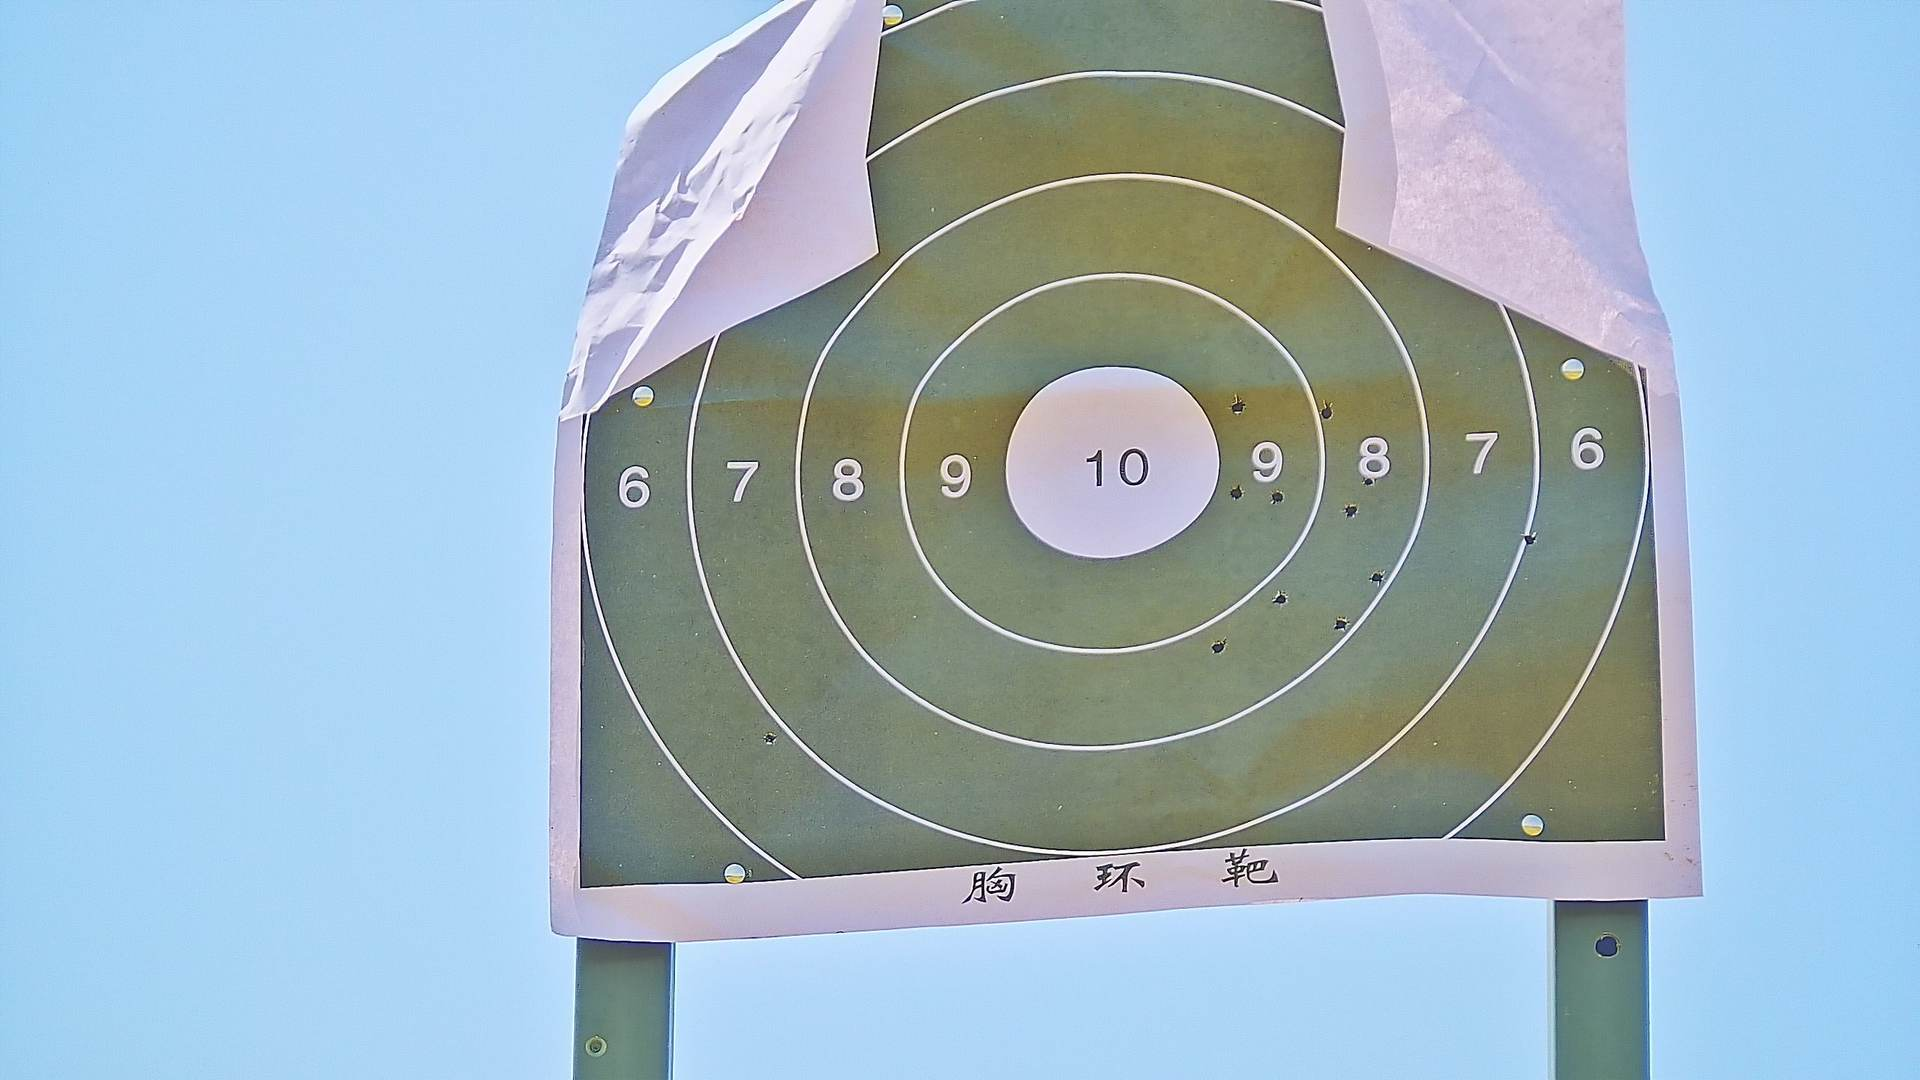hole: (1270, 489, 1286, 506), (1319, 404, 1336, 419), (1209, 640, 1225, 655), (1523, 530, 1538, 547), (1275, 589, 1288, 608), (1342, 504, 1357, 518), (1232, 400, 1245, 415), (1335, 617, 1346, 632), (1369, 571, 1385, 582), (1230, 487, 1244, 498), (764, 733, 778, 744), (1364, 475, 1374, 487)
target: (574, 3, 1663, 895)
ten: (1000, 367, 1217, 560)
